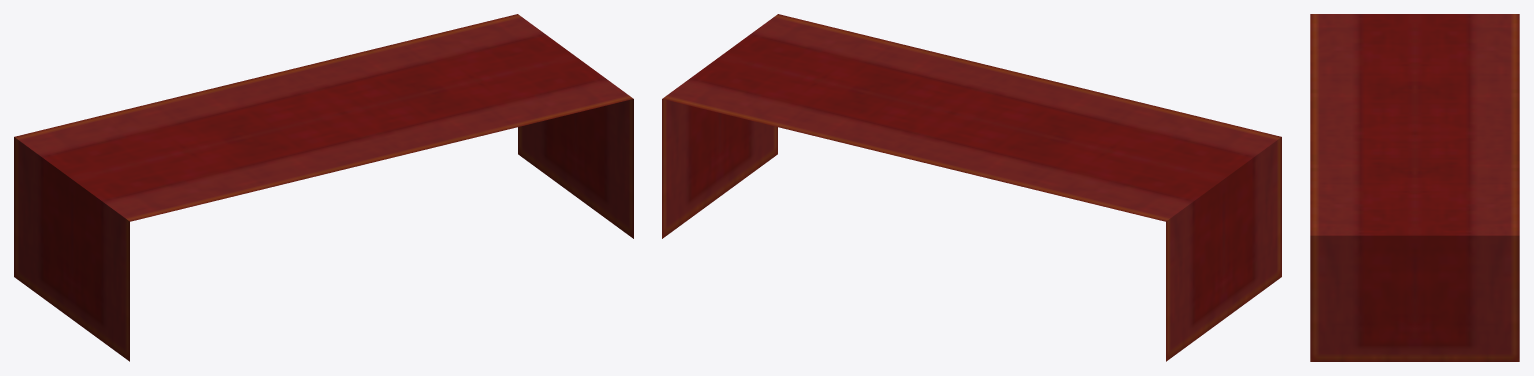
File: Cover_1D.fbx
3 views of the same model, side by side, from view 1: azimuth 30°, elevation 25°; view 2: azimuth 150°, elevation 25°; view 3: azimuth 270°, elevation 25° (orthographic). The views are drawn at different scales.
Parts seen in each view (by area): view 1: polySurface7520; view 2: polySurface7520; view 3: polySurface7520.
Part boxes in pixels (<box>): polySurface7520: <box>14,14,633,361</box>; polySurface7520: <box>662,14,1281,361</box>; polySurface7520: <box>1310,14,1519,361</box>.
Bounding box in the file's own units: 3.01 × 0.8001 × 1.2.
